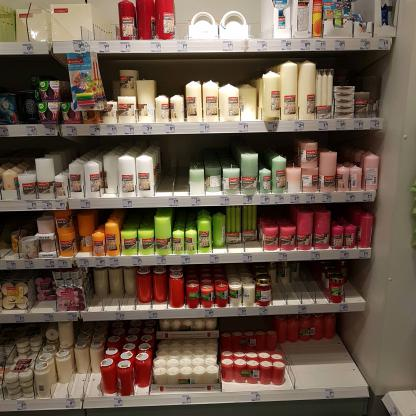Void: (286, 343, 362, 386), (339, 52, 382, 86), (161, 142, 187, 191), (292, 262, 322, 298), (248, 2, 272, 41), (94, 4, 119, 37), (347, 258, 366, 300), (6, 56, 30, 86), (41, 55, 68, 79), (72, 373, 100, 395), (1, 213, 34, 228), (264, 204, 291, 221), (174, 5, 186, 37), (332, 205, 352, 220), (0, 234, 11, 256), (55, 383, 67, 396)
